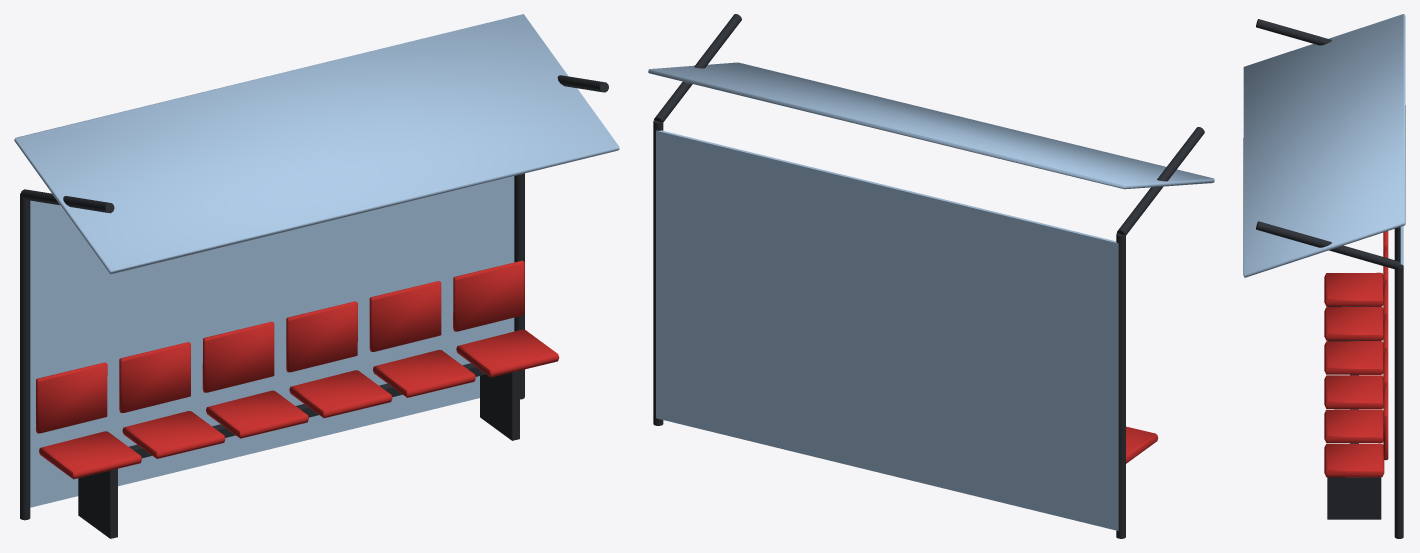
File: banco-reservas-leve.glb
The picture shows the model from 3 angles, left to right: view 1: azimuth 30°, elevation 25°; view 2: azimuth 150°, elevation 25°; view 3: azimuth 270°, elevation 25°; orthographic projection. The views are drawn at different scales.
Parts seen in each view (by area): view 1: cobertura, fundo, encosto.004, encosto.002, encosto, encosto.003, encosto.005, encosto.001, poste, assento, assento.003, assento.005 (+8 smaller); view 2: fundo, cobertura, poste, braco, braco.001, poste.001, assento; view 3: cobertura, poste.001, pe.001, assento.005, assento, assento.001, assento.003, assento.002, assento.004, braco.001, braco, encosto.005 (+1 smaller).
Part boxes in pixels (box(x1,y1,x2,y2)): cobertura: box(14, 14, 619, 274); fundo: box(30, 176, 514, 507); encosto.004: box(369, 281, 441, 351); encosto.002: box(202, 321, 274, 392); encosto: box(36, 362, 107, 433); encosto.003: box(286, 301, 357, 372); encosto.005: box(453, 260, 524, 331); encosto.001: box(119, 342, 190, 412); poste: box(20, 193, 30, 520); assento: box(39, 431, 141, 479); assento.003: box(289, 370, 392, 418); assento.005: box(456, 329, 559, 377); fundo: box(656, 130, 1118, 530); cobertura: box(648, 62, 1214, 189); poste: box(1116, 233, 1125, 538); braco: box(1117, 127, 1204, 235); braco.001: box(654, 14, 741, 122); poste.001: box(653, 120, 663, 425); assento: box(1126, 426, 1158, 463); cobertura: box(1243, 14, 1405, 277); poste.001: box(1394, 264, 1403, 538); pe.001: box(1327, 477, 1381, 519); assento.005: box(1324, 443, 1384, 477); assento: box(1324, 272, 1383, 306); assento.001: box(1324, 307, 1383, 340); assento.003: box(1324, 375, 1383, 408); assento.002: box(1324, 341, 1383, 374); assento.004: box(1324, 409, 1383, 442); braco.001: box(1256, 221, 1400, 269); braco: box(1256, 19, 1331, 45); encosto.005: box(1383, 387, 1388, 460).
Size of the model in its own units: 3.3 by 2.35 by 1.09.
